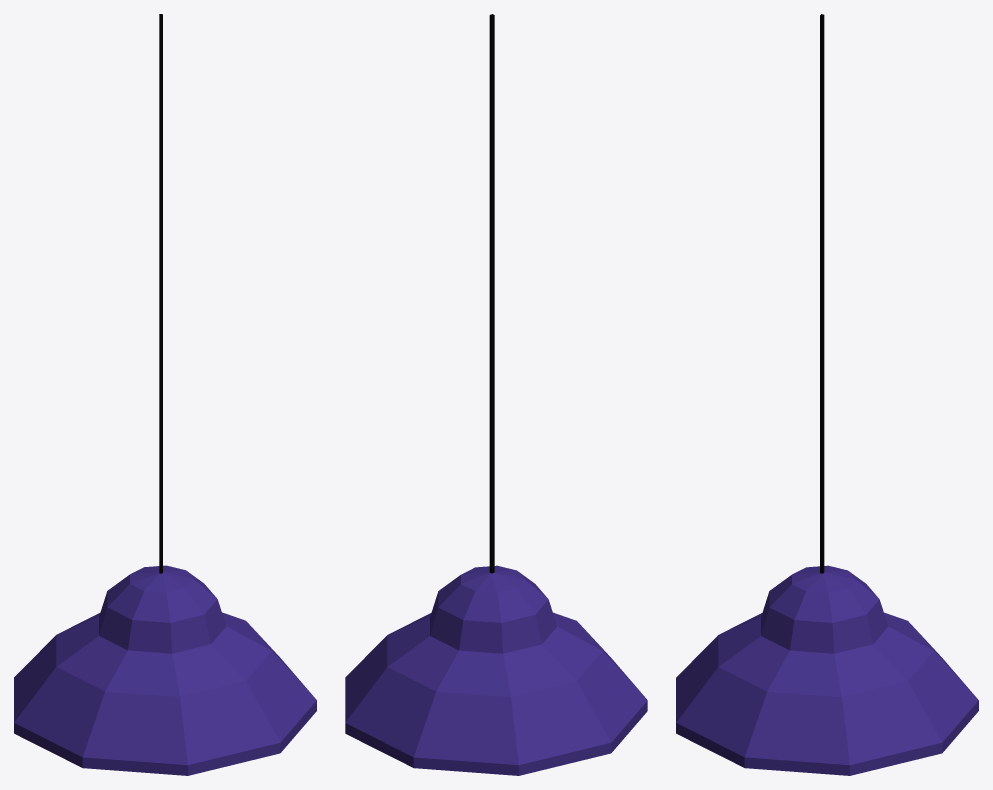
File: ceiling lamp.glb
3 views of the same model, side by side, from view 1: azimuth 30°, elevation 25°; view 2: azimuth 150°, elevation 25°; view 3: azimuth 270°, elevation 25° (orthographic).
Parts seen in each view (by area): view 1: Ceiling Lamp; view 2: Ceiling Lamp; view 3: Ceiling Lamp.
Part boxes in pixels (bbox=[...]): Ceiling Lamp: bbox=[14, 14, 316, 775]; Ceiling Lamp: bbox=[345, 14, 647, 775]; Ceiling Lamp: bbox=[676, 14, 978, 775].
Size of the model in its own units: 4.68 by 11.7 by 4.61.
